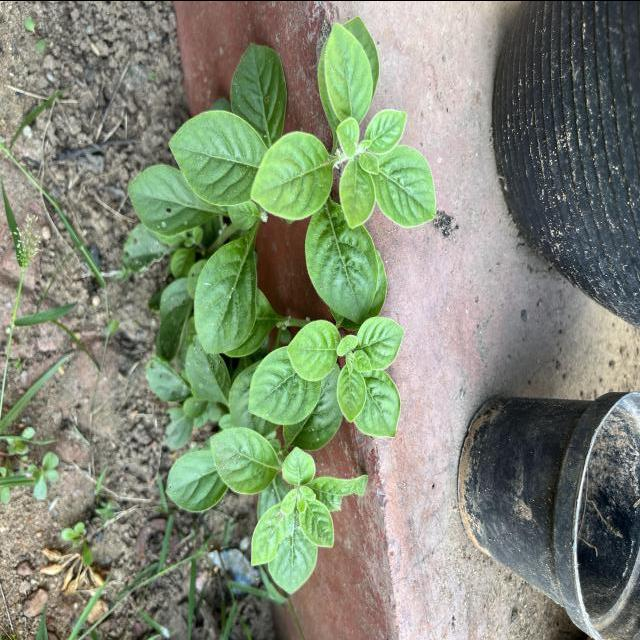Aerva lanata: (166, 105, 268, 208), (304, 195, 381, 328), (192, 222, 262, 356), (248, 127, 336, 222), (246, 342, 324, 426), (374, 141, 439, 230), (206, 423, 283, 497), (322, 19, 376, 124), (284, 316, 342, 382), (353, 368, 404, 438), (354, 312, 408, 373), (336, 157, 378, 230), (361, 106, 410, 156), (296, 496, 336, 548), (335, 364, 368, 424), (280, 442, 318, 487)
